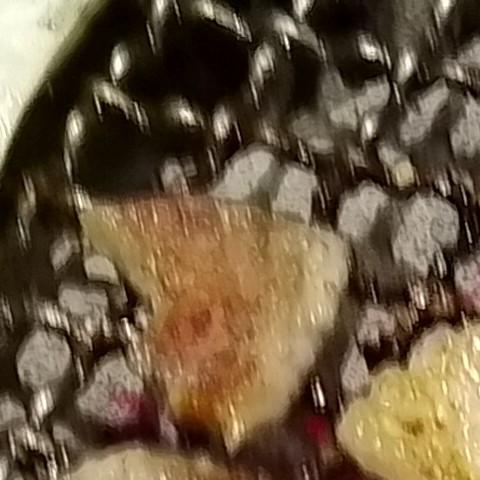Well-Cooked: (79, 195, 348, 457), (338, 327, 479, 479)
